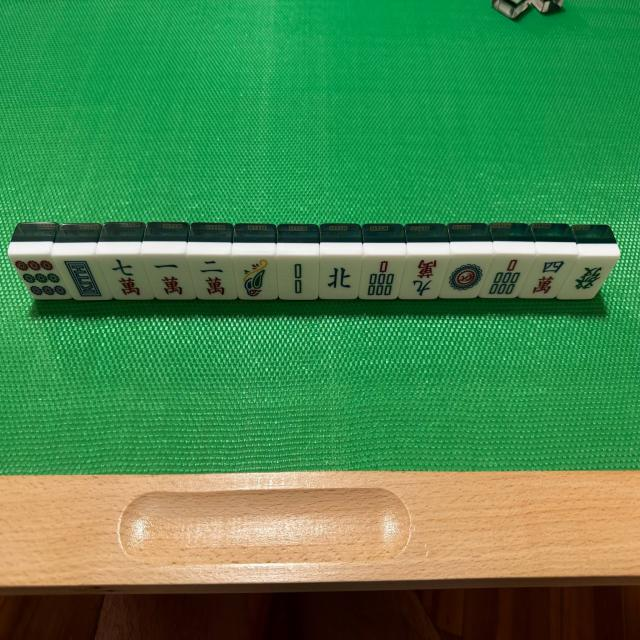bai: (62, 257, 107, 301)
fa: (568, 259, 606, 302)
m1: (149, 257, 193, 300)
m2: (191, 257, 233, 301)
m4: (523, 258, 567, 301)
m7: (100, 257, 148, 301)
m9: (404, 256, 445, 300)
north: (323, 260, 359, 298)
s1: (236, 258, 273, 301)
s2: (279, 258, 317, 301)
s7: (487, 258, 528, 300), (364, 259, 403, 300)
t1: (442, 255, 486, 300)
t9: (13, 258, 68, 300)
